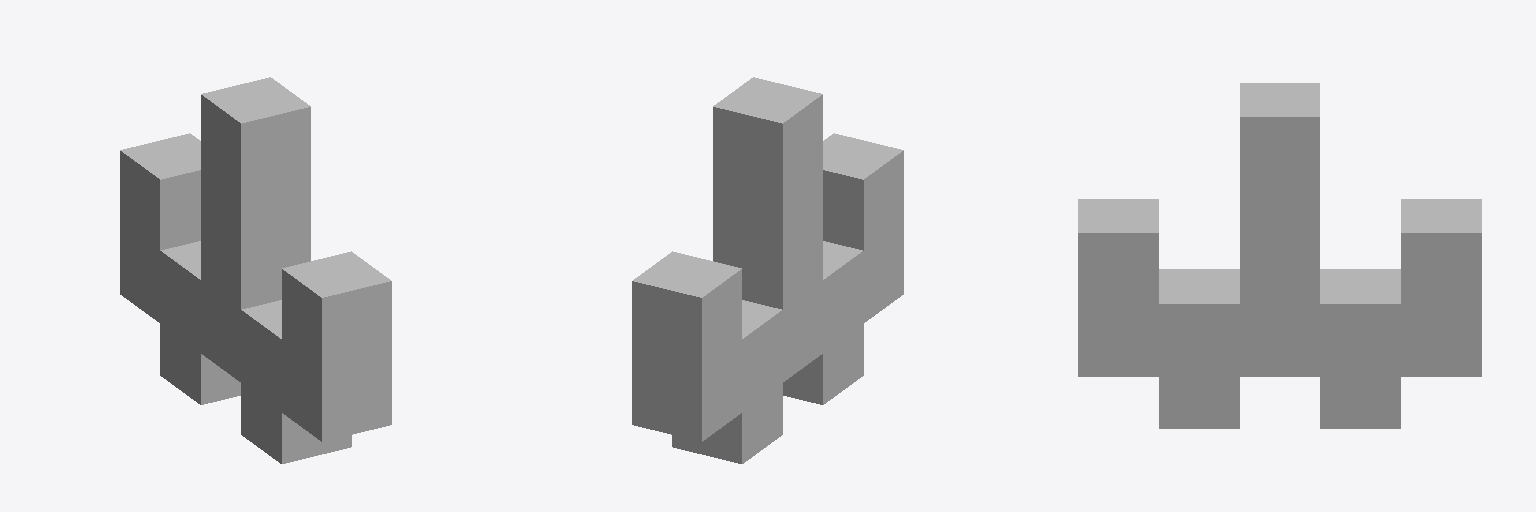
The model's file is самалётик.obj.
3 renders of one model, left to right at view 1: azimuth 30°, elevation 25°; view 2: azimuth 150°, elevation 25°; view 3: azimuth 270°, elevation 25°, orthographic.
Parts seen in each view (by area): view 1: Куб; view 2: Куб; view 3: Куб.
Boxes of the visible parts, x1=… form: Куб: x1=120, y1=77, x2=391, y2=463; Куб: x1=632, y1=77, x2=903, y2=463; Куб: x1=1078, y1=83, x2=1481, y2=428.
Bounding box in the file's own units: 2 × 8.51 × 10.